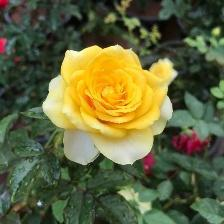rose: (40, 43, 175, 169)
